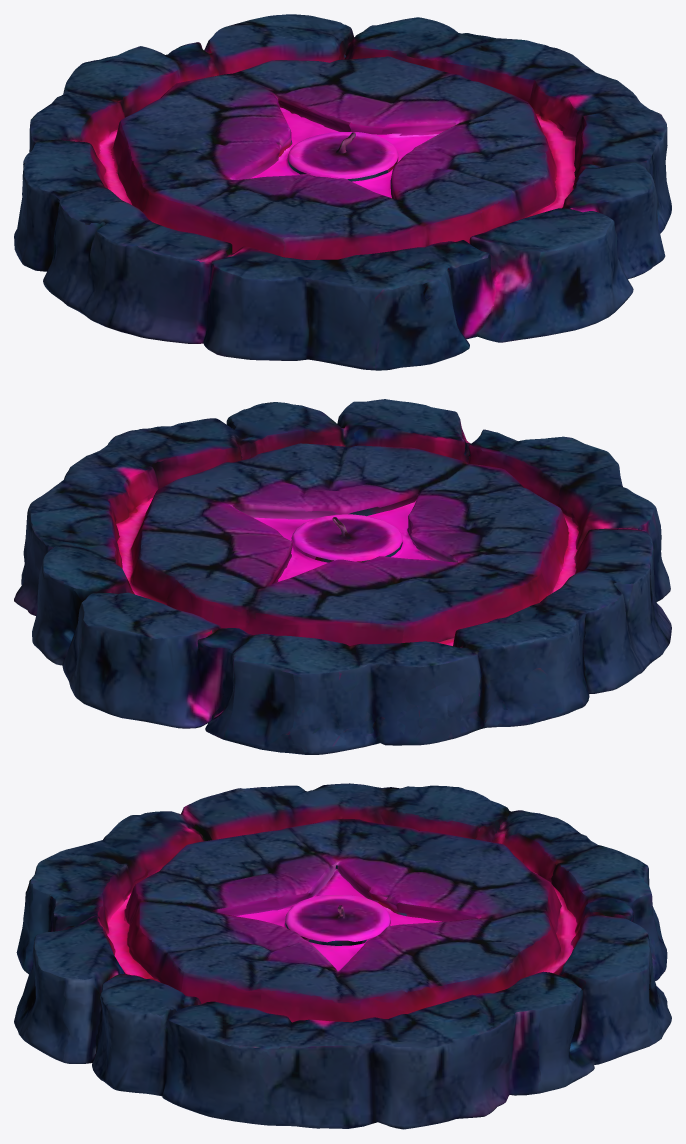
Rendered from island-shelf-generated-2026-05-17T17-41-15-040Z.low.glb.
The picture shows the model from 3 angles, top to bottom: view 1: azimuth 30°, elevation 25°; view 2: azimuth 150°, elevation 25°; view 3: azimuth 270°, elevation 25°; orthographic projection.
Parts seen in each view (by area): view 1: temp_mesh.ply; view 2: temp_mesh.ply; view 3: temp_mesh.ply.
Boxes of the visible parts, x1,y1,x2,y2 form: temp_mesh.ply: (14,14,671,370); temp_mesh.ply: (14,399,671,754); temp_mesh.ply: (14,783,671,1129).
Bounding box in the file's own units: 1.97 × 0.3036 × 1.97.
Materials: 1 (1 with a texture image).
